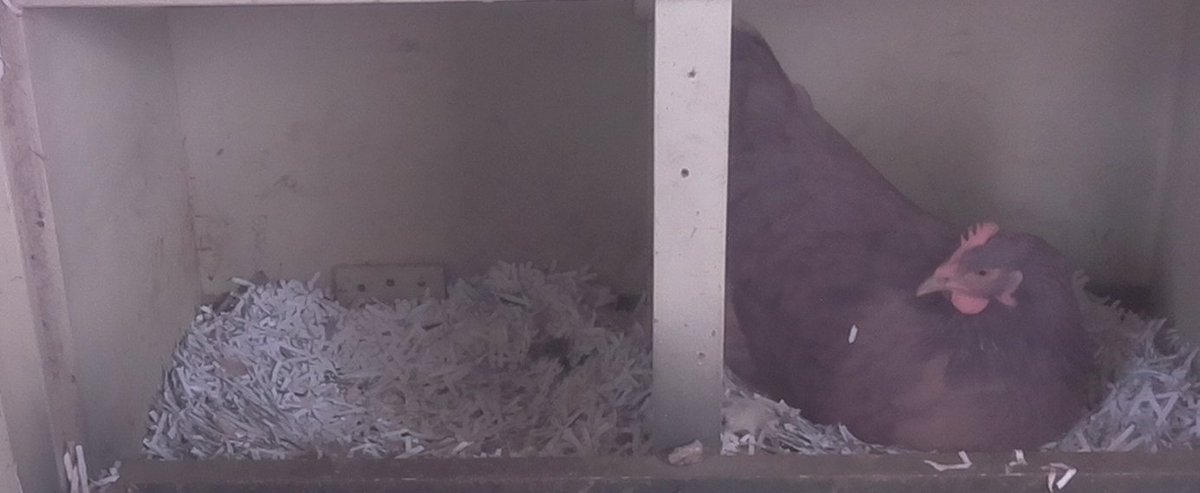hen: (734, 17, 1102, 451)
